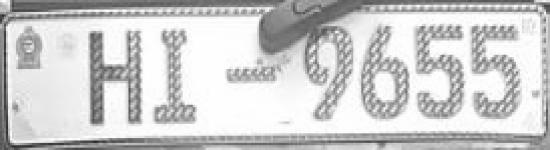-: (223, 56, 286, 94)
5: (467, 17, 531, 124), (412, 19, 469, 122)
6: (357, 21, 411, 124)
9: (300, 22, 357, 126)
H: (82, 26, 151, 130)
I: (155, 23, 210, 129)
